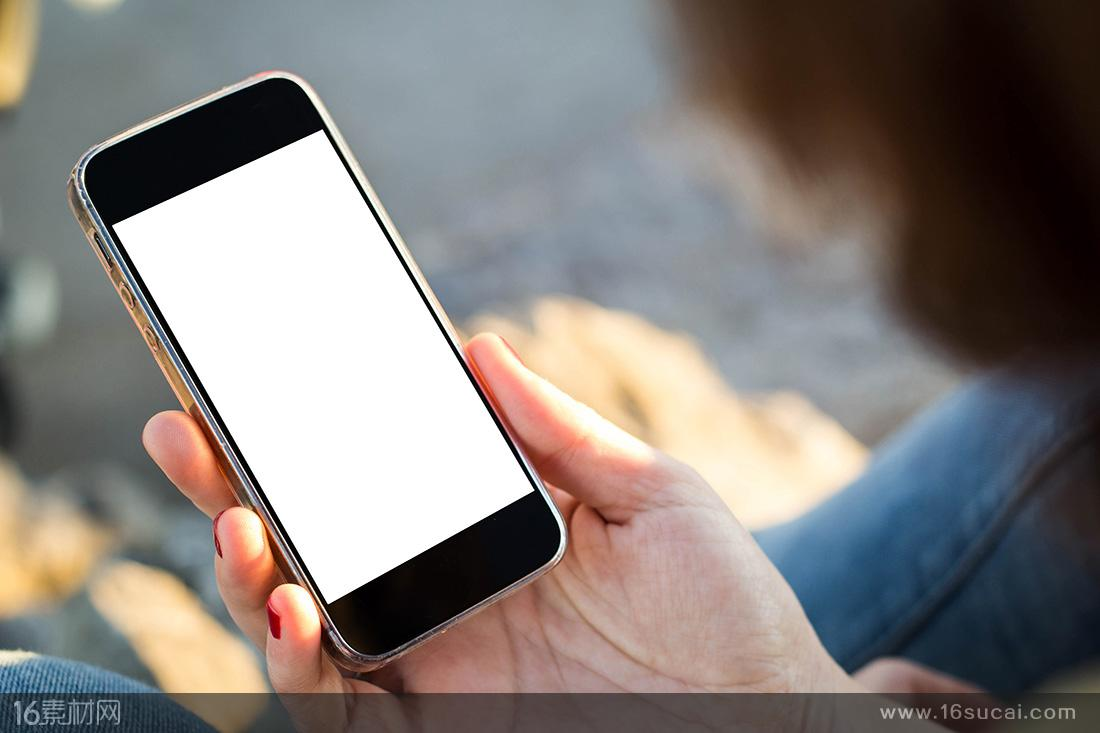reading: (58, 59, 835, 689)
